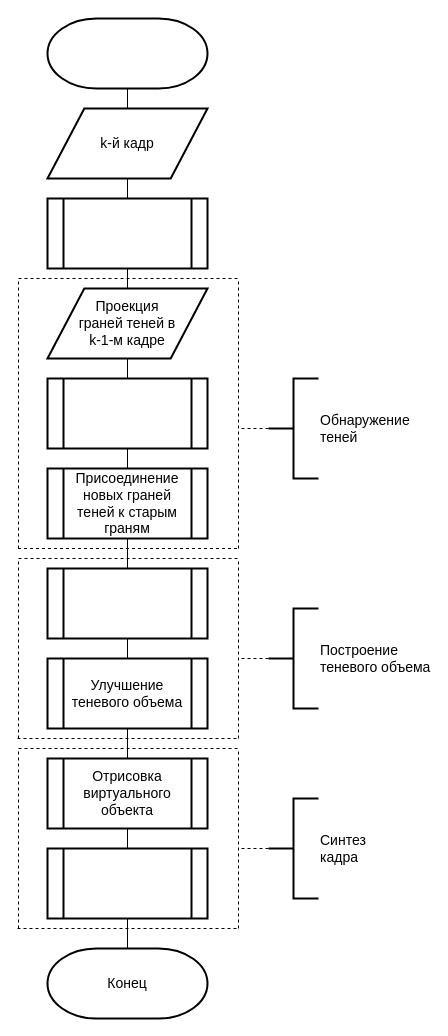
The diagram is 448 pixels wide and 1036 high, and some of its shapes have lost their labels. The centre of each missing label's shape, as x and y in pixels:
"Начало" belongs at (x=127, y=53).
"Обнаружение новых граней теней" belongs at (x=127, y=413).
"Получение данных и калибровка камеры" belongs at (x=127, y=233).
"Построение приближенного теневого объема" belongs at (x=127, y=603).
"Синтез и вывод изображения" belongs at (x=127, y=883).
